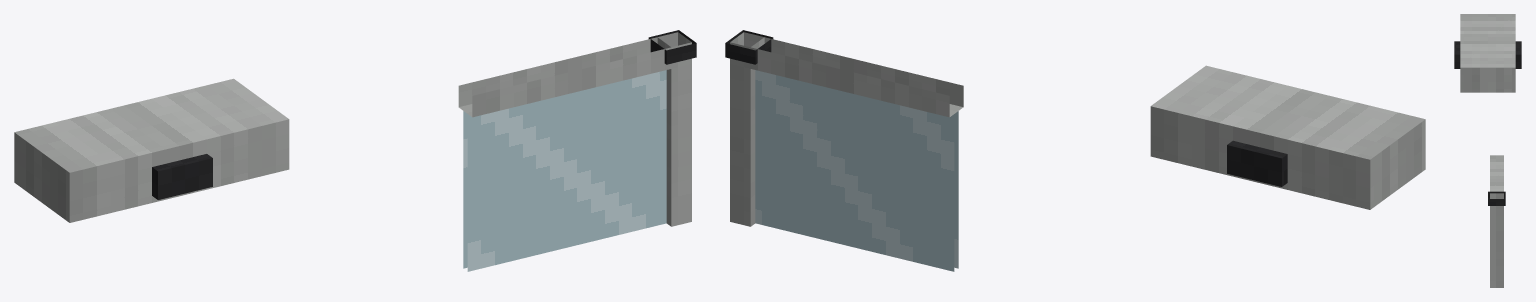
File: auto_door_wide_slider_stainless_c0_upper_right_open.obj
3 renders of one model, left to right at view 1: azimuth 30°, elevation 25°; view 2: azimuth 150°, elevation 25°; view 3: azimuth 270°, elevation 25°, orthographic. The views are drawn at different scales.
Parts seen in each view (by area): view 1: auto_door_wide_slider_stainless_c0_upper_right_open; view 2: auto_door_wide_slider_stainless_c0_upper_right_open; view 3: auto_door_wide_slider_stainless_c0_upper_right_open.
Part boxes in pixels (left/top/right/bottom): auto_door_wide_slider_stainless_c0_upper_right_open: left=14, top=30, right=696, bottom=271; auto_door_wide_slider_stainless_c0_upper_right_open: left=725, top=30, right=1425, bottom=271; auto_door_wide_slider_stainless_c0_upper_right_open: left=1454, top=14, right=1521, bottom=287.
Size of the model in its own units: 2.98 by 1 by 0.5312.
